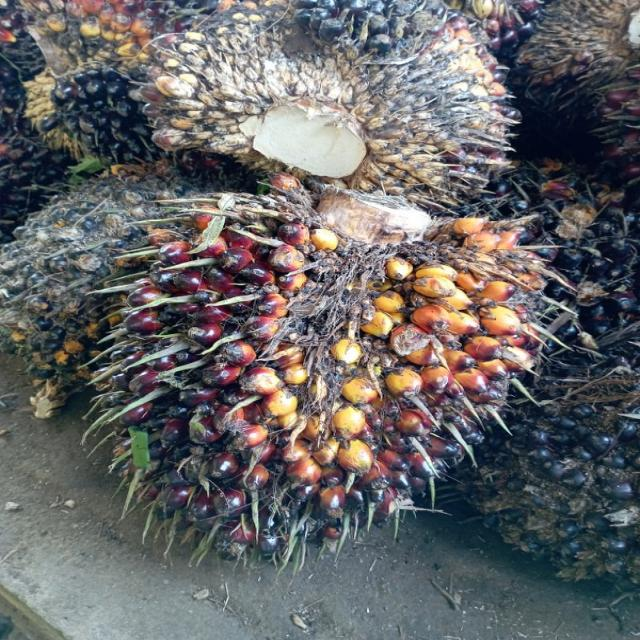fraksi 00: (110, 177, 527, 556), (132, 0, 521, 189), (484, 192, 640, 580), (42, 62, 170, 164)
